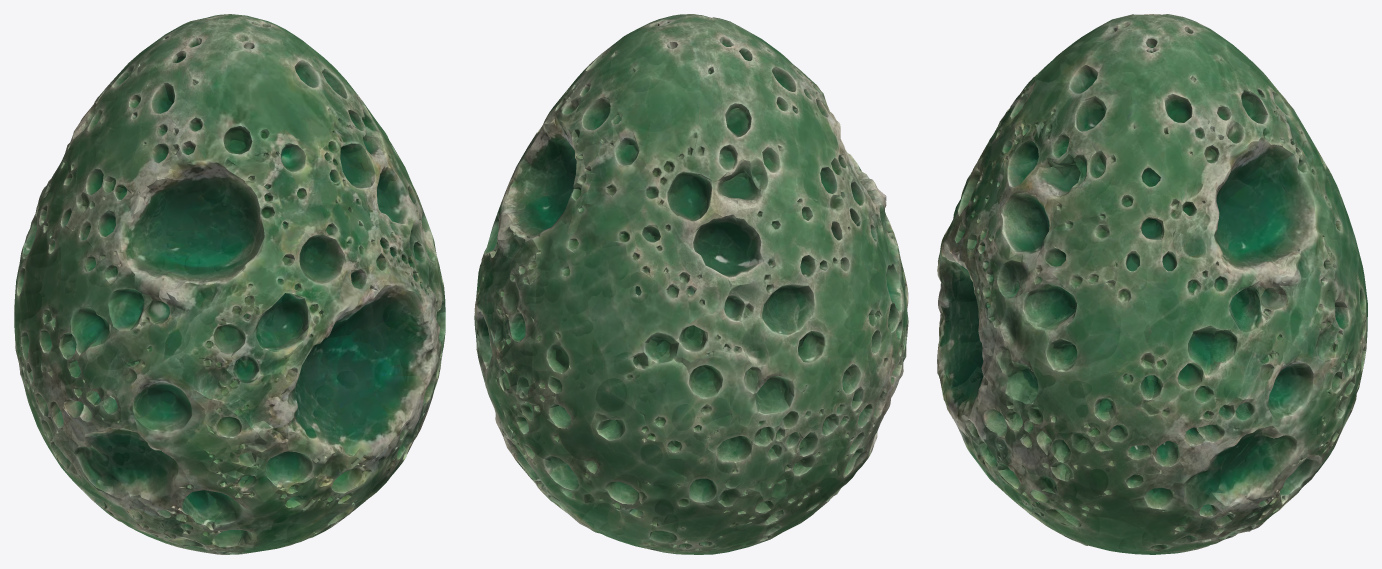
The picture shows the model from 3 angles, left to right: view 1: azimuth 30°, elevation 25°; view 2: azimuth 150°, elevation 25°; view 3: azimuth 270°, elevation 25°; orthographic projection.
Visible parts, largest first — view 1: Mesh_0; view 2: Mesh_0; view 3: Mesh_0.
Boxes of the visible parts, <box> form: Mesh_0: <box>14,14,445,554</box>; Mesh_0: <box>474,14,908,554</box>; Mesh_0: <box>937,14,1367,554</box>.
Bounding box in the file's own units: 1.46 × 1.9 × 1.45.
1 material, 1 textured.
